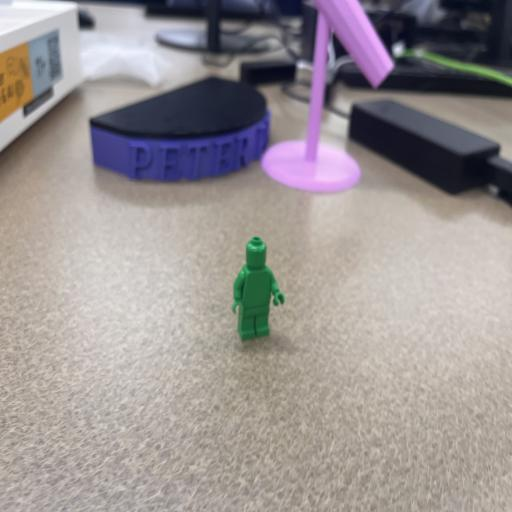Lego-Minifig: (232, 236, 285, 340)
